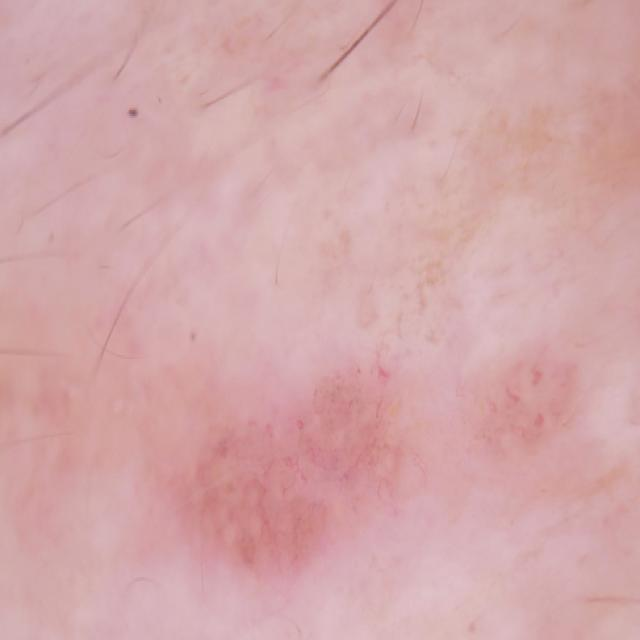Carcinoma: (146, 328, 415, 603), (474, 323, 587, 507)
